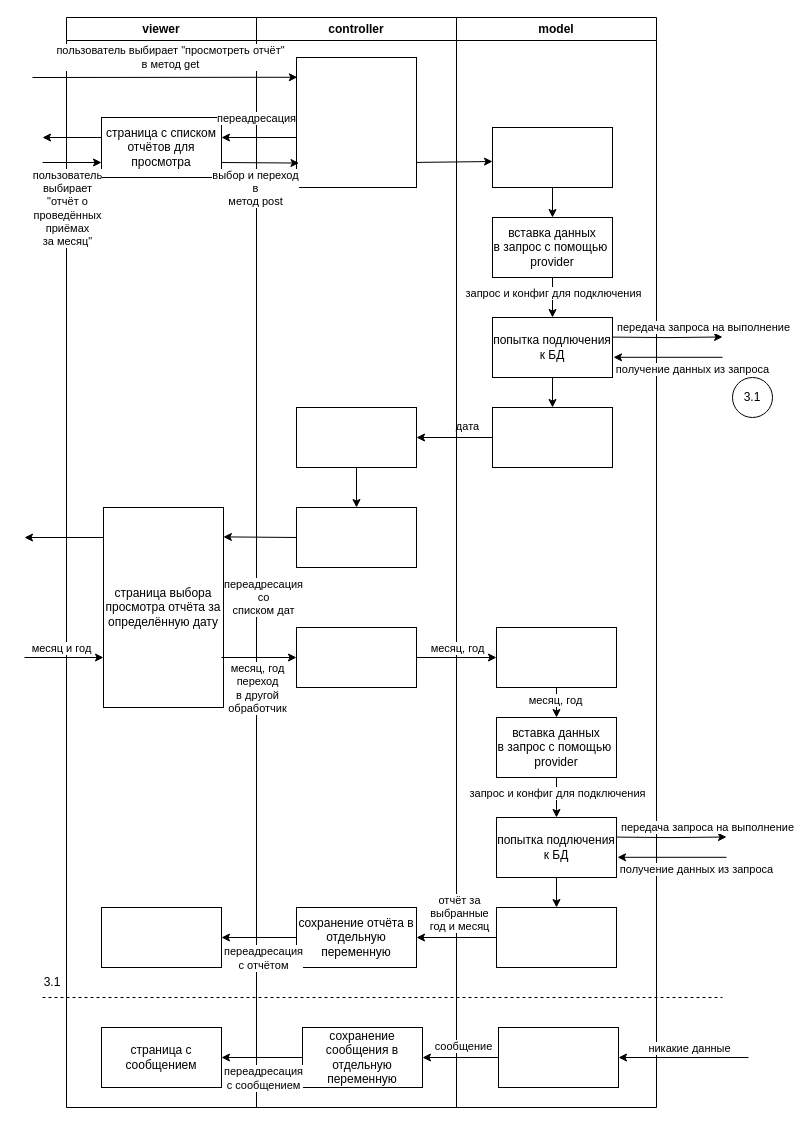
This 812x1125 diagram has some shape labels left out. The centre of each missing label's shape, as x and y in pixels:
"даты для выбора просмотра отчёта" belongs at (x=552, y=437).
"поиск дат для списка выбора" belongs at (x=552, y=157).
"поиск отчёта за выбранный год и месяц" belongs at (x=556, y=657).
"сообщение об отсуствие отчётов" belongs at (x=558, y=1057).
"сохранение дат в отдельную переменную" belongs at (x=356, y=437).
"страница с отчётом" belongs at (x=161, y=937).
